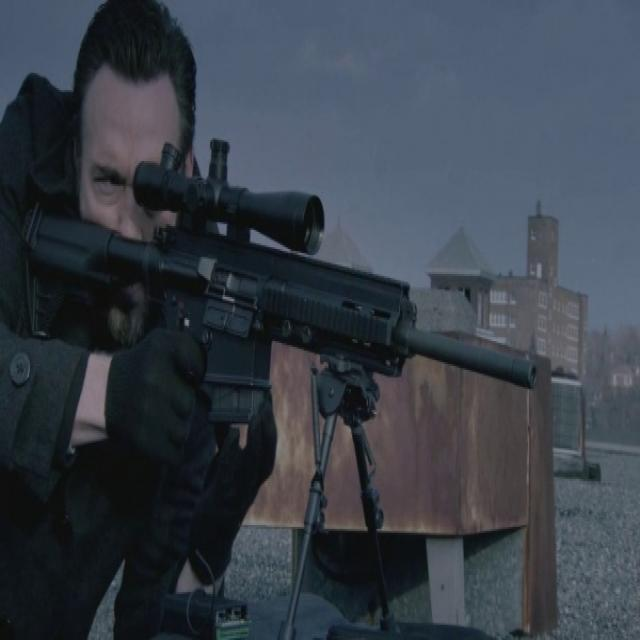rifle: (17, 132, 545, 417)
